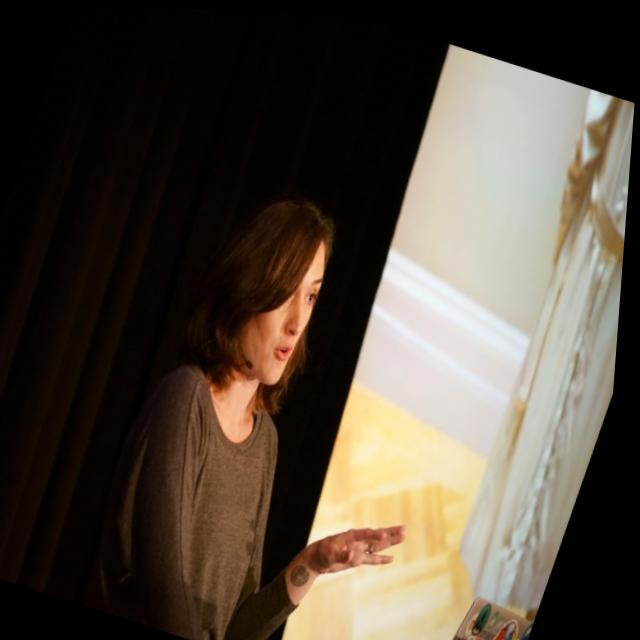Nonhelmet: (186, 194, 338, 414)
